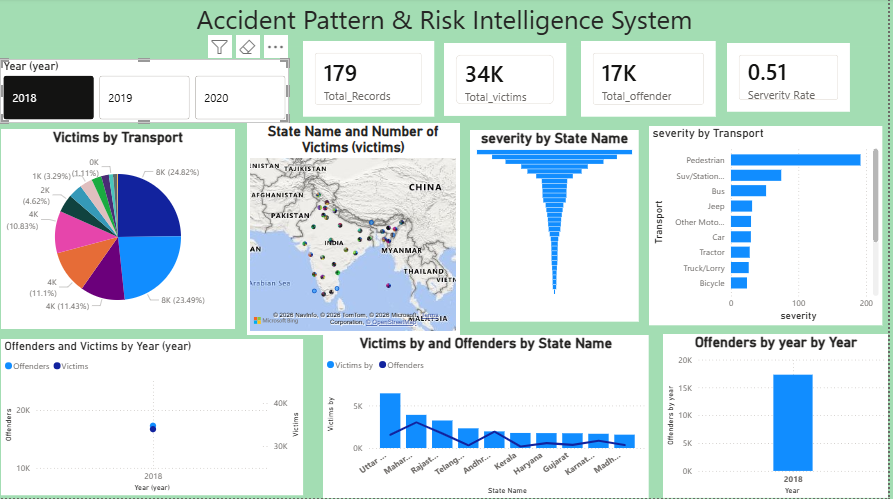

The dashboard page shown, as its layout file describes it:
{"tool":"powerbi","page":{"name":"dashboards","canvas":[1280,720],"ordinal":6},"visuals":[{"type":"textbox","box":[0,0,1280,70],"z":0},{"type":"advancedSlicerVisual","fields":{"Values":["Fact_main.Year (year)"]},"box":[0,87.8,416.2,92.2],"z":1000},{"type":"cardVisual","fields":{"Data":["state_dim1.Total_accidents"]},"box":[436.3,61.9,188.6,109.4],"z":2000},{"type":"cardVisual","fields":{"Data":["Fact_main.Total_victims"]},"box":[639.4,64.8,175.7,105.1],"z":3000},{"type":"cardVisual","fields":{"Data":["Fact_main.Total_offender"]},"box":[836.6,61.9,194.4,109.4],"z":4000},{"type":"cardVisual","fields":{"Data":["Fact_main.Serverity Rate"]},"box":[1046.9,64.8,177.1,99.4],"z":5000},{"type":"pieChart","fields":{"Category":["transport_dim.Transport"],"Y":["Sum(Fact_main.Number of Victims (victims))"]},"box":[1.4,188.6,337,288],"z":6000},{"type":"map","fields":{"Category":["state_dim1.State Name"],"Series":["Fact_main.Number of Victims (victims)"]},"box":[355.6,180.6,305.6,304.2],"z":7000},{"type":"funnel","fields":{"Category":["state_dim1.State Name"],"Y":["Sum(Fact_main.severity)"]},"box":[676.8,190.1,243.4,276.5],"z":8000},{"type":"barChart","fields":{"Y":["Sum(Fact_main.severity)"],"Category":["transport_dim.Transport"]},"box":[934.6,184.3,335.5,286.6],"z":9000},{"type":"lineChart","fields":{"Category":["Fact_main.Year (year)"],"Y":["Sum(Fact_main.Number of Offenders (offenders))"],"Y2":["Sum(Fact_main.Number of Victims (victims))"]},"box":[1.4,491,434.9,224.6],"z":10000},{"type":"lineStackedColumnComboChart","fields":{"Category":["state_dim1.State Name"],"Y":["Sum(Fact_main.Number of Victims (victims))"],"Y2":["Sum(Fact_main.Number of Offenders (offenders))"]},"box":[465.1,485.3,469.4,234.7],"z":11000},{"type":"columnChart","fields":{"Category":["Fact_main.Year (year)"],"Y":["Sum(Fact_main.Number of Offenders (offenders))"]},"box":[954.7,483.8,325.4,236.2],"z":12000}]}

Visuals, with their boxes in screenshot pixels (x1, y1, x2, y2), scaled from the page's 1280x720 canvas onto the 893x499 screenshot:
textbox: pyautogui.locateOnScreen(0, 0, 892, 49)
advancedSlicerVisual - Fact_main.Year (year): pyautogui.locateOnScreen(0, 61, 290, 125)
cardVisual - state_dim1.Total_accidents: pyautogui.locateOnScreen(304, 43, 436, 119)
cardVisual - Fact_main.Total_victims: pyautogui.locateOnScreen(446, 45, 569, 118)
cardVisual - Fact_main.Total_offender: pyautogui.locateOnScreen(584, 43, 719, 119)
cardVisual - Fact_main.Serverity Rate: pyautogui.locateOnScreen(730, 45, 854, 114)
pieChart - transport_dim.Transport x Sum(Fact_main.Number of Victims (victims)): pyautogui.locateOnScreen(1, 131, 236, 330)
map - state_dim1.State Name x Fact_main.Number of Victims (victims): pyautogui.locateOnScreen(248, 125, 461, 336)
funnel - state_dim1.State Name x Sum(Fact_main.severity): pyautogui.locateOnScreen(472, 132, 642, 323)
barChart - Sum(Fact_main.severity) x transport_dim.Transport: pyautogui.locateOnScreen(652, 128, 886, 326)
lineChart - Fact_main.Year (year) x Sum(Fact_main.Number of Offenders (offenders)): pyautogui.locateOnScreen(1, 340, 304, 496)
lineStackedColumnComboChart - state_dim1.State Name x Sum(Fact_main.Number of Victims (victims)): pyautogui.locateOnScreen(324, 336, 652, 498)
columnChart - Fact_main.Year (year) x Sum(Fact_main.Number of Offenders (offenders)): pyautogui.locateOnScreen(666, 335, 892, 498)
